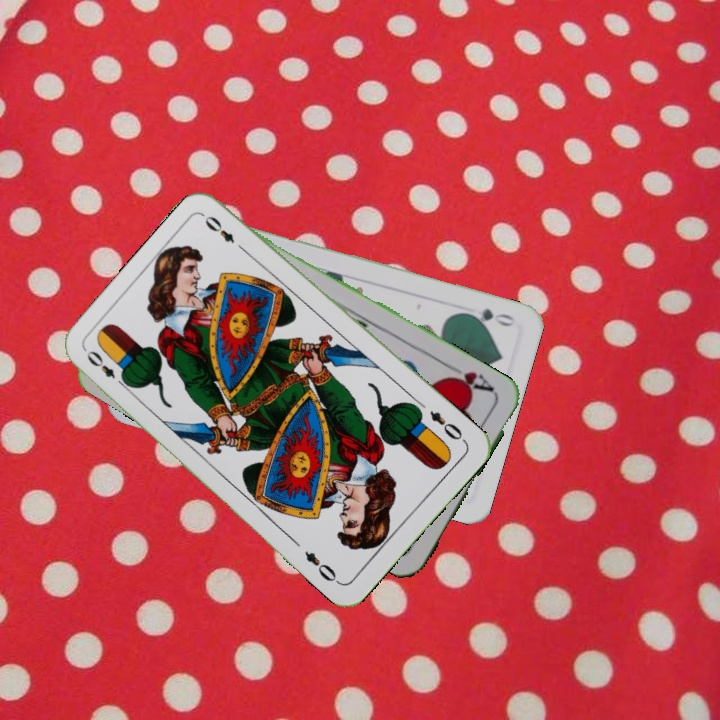EO: (82, 346, 130, 391), (425, 406, 469, 446)
GO: (459, 304, 517, 330)
HA: (443, 360, 497, 395)
